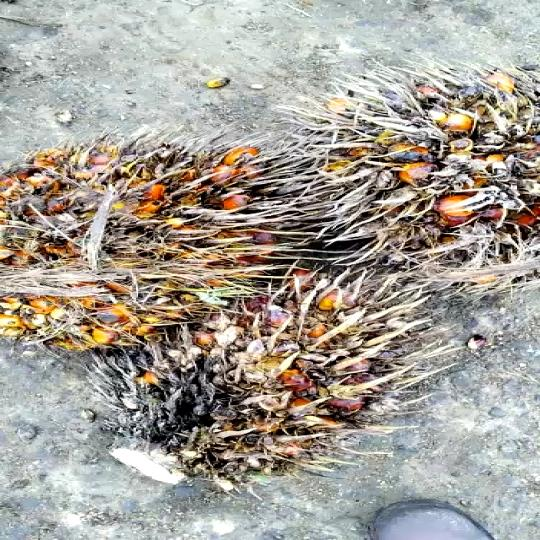terlalu masak: (112, 262, 439, 492), (0, 134, 308, 342), (327, 87, 540, 293)
